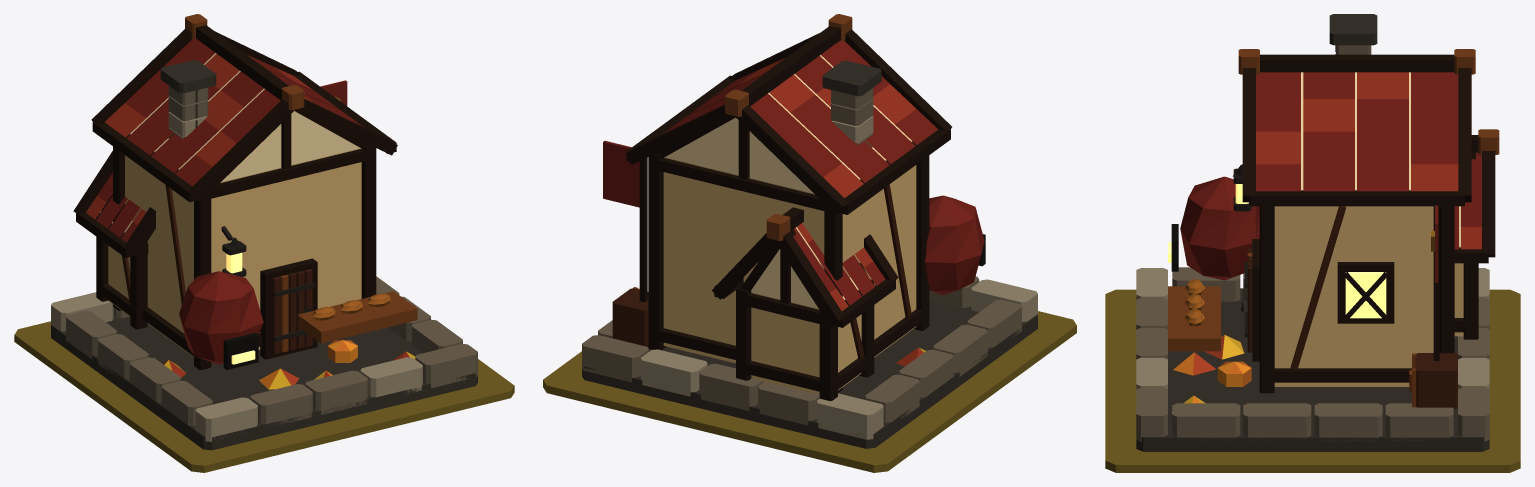
The model's file is bakery_t6.glb.
3 views of the same model, side by side, from view 1: azimuth 30°, elevation 25°; view 2: azimuth 150°, elevation 25°; view 3: azimuth 270°, elevation 25° (orthographic). The views are drawn at different scales.
Parts seen in each view (by area): view 1: MMR | bakery | T06 Architecture.001, MMR | bakery | Tier 06 Ground.001, MMR | bakery | T06 Autumn Dressing.001; view 2: MMR | bakery | T06 Architecture.001, MMR | bakery | Tier 06 Ground.001, MMR | bakery | T06 Banner Flag 1.001; view 3: MMR | bakery | T06 Architecture.001, MMR | bakery | Tier 06 Ground.001, MMR | bakery | T06 Autumn Dressing.001.
Boxes of the visible parts, <box> form: MMR | bakery | T06 Architecture.001: <box>51,14,477,450</box>; MMR | bakery | Tier 06 Ground.001: <box>14,321,514,472</box>; MMR | bakery | T06 Autumn Dressing.001: <box>162,340,415,389</box>; MMR | bakery | T06 Architecture.001: <box>582,14,1037,448</box>; MMR | bakery | Tier 06 Ground.001: <box>543,311,1076,472</box>; MMR | bakery | T06 Banner Flag 1.001: <box>603,140,639,207</box>; MMR | bakery | T06 Architecture.001: <box>1136,14,1499,451</box>; MMR | bakery | Tier 06 Ground.001: <box>1105,289,1520,472</box>; MMR | bakery | T06 Autumn Dressing.001: <box>1171,335,1251,412</box>.
Size of the model in its own units: 2.35 by 2.08 by 2.35.
2 materials, 1 textured.
